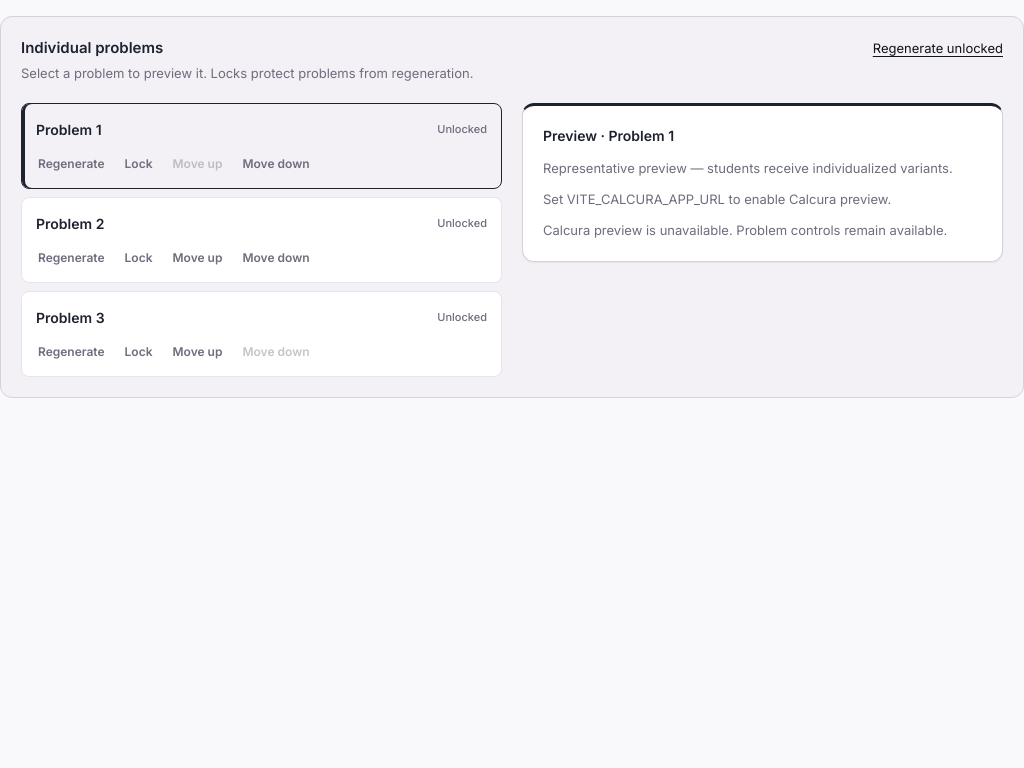
assignment problem slot editor › regenerates, locks/unlocks, reorders and confirms bulk regeneration
Click the 1st button "Regenerate" at (71, 164), box [30,148,113,180]
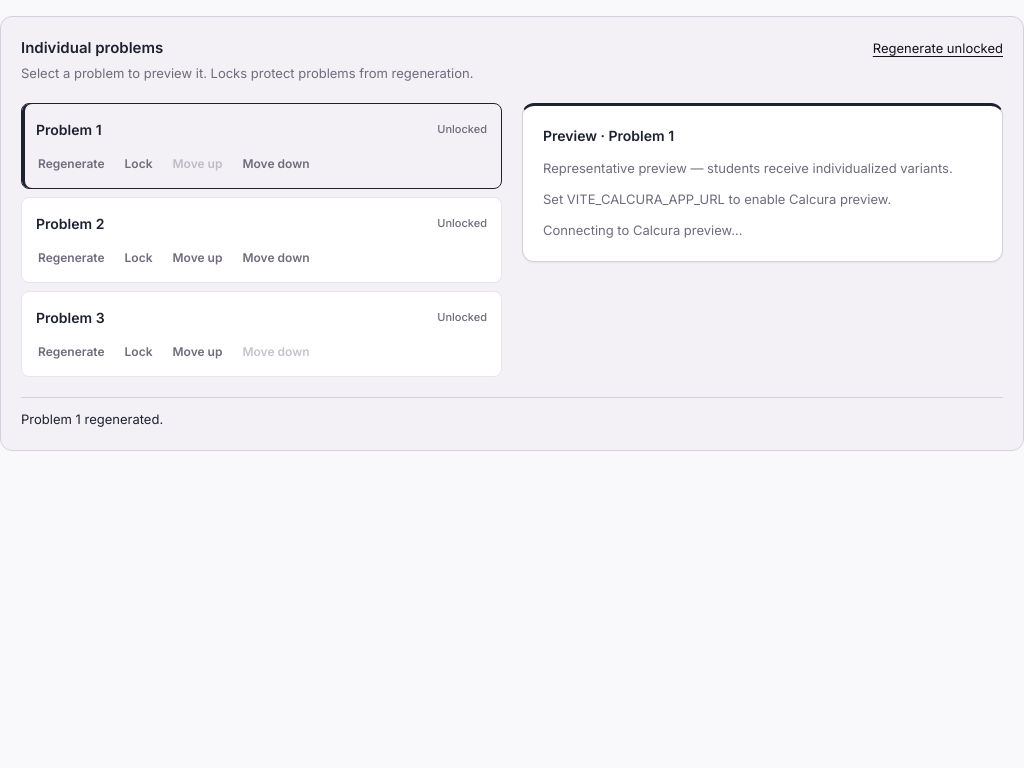
Now the text "Problem 1 regenerated." is shown, box [21,397,1003,430]
Click the 1st button "Lock" at (139, 164), box [117,148,160,180]
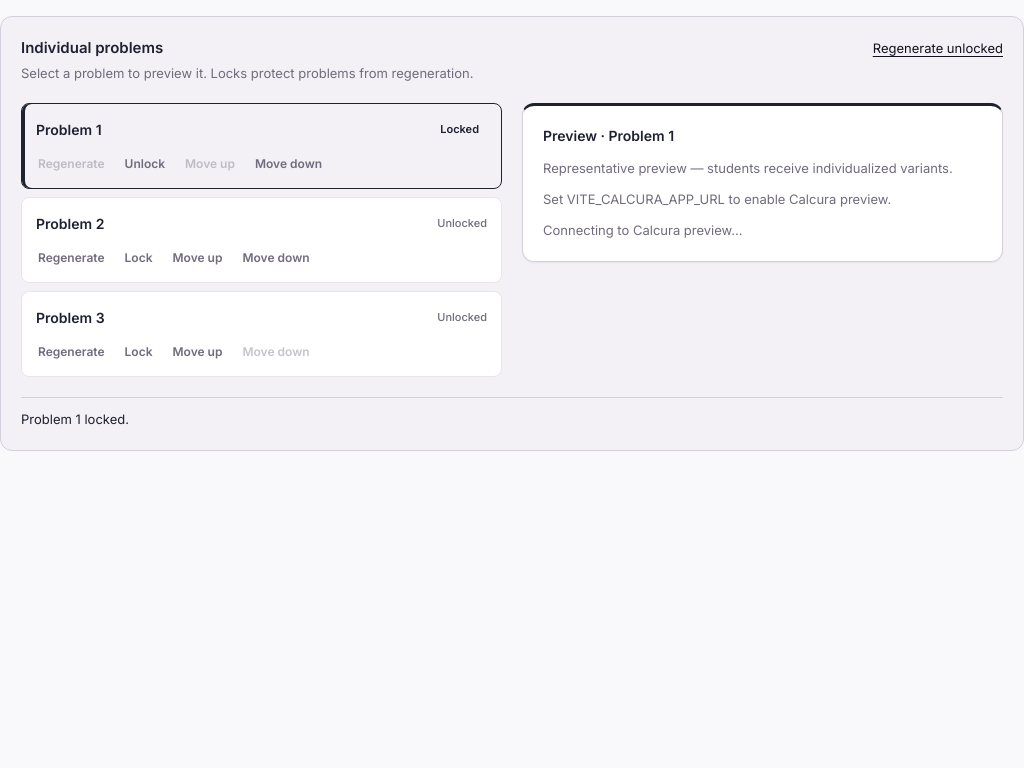
Now the text "Problem 1 locked." is shown, box [21,397,1003,430]
Now the 1st button "Regenerate" is disabled, box [30,148,113,180]
Click the button "Unlock" at (145, 164), box [117,148,173,180]
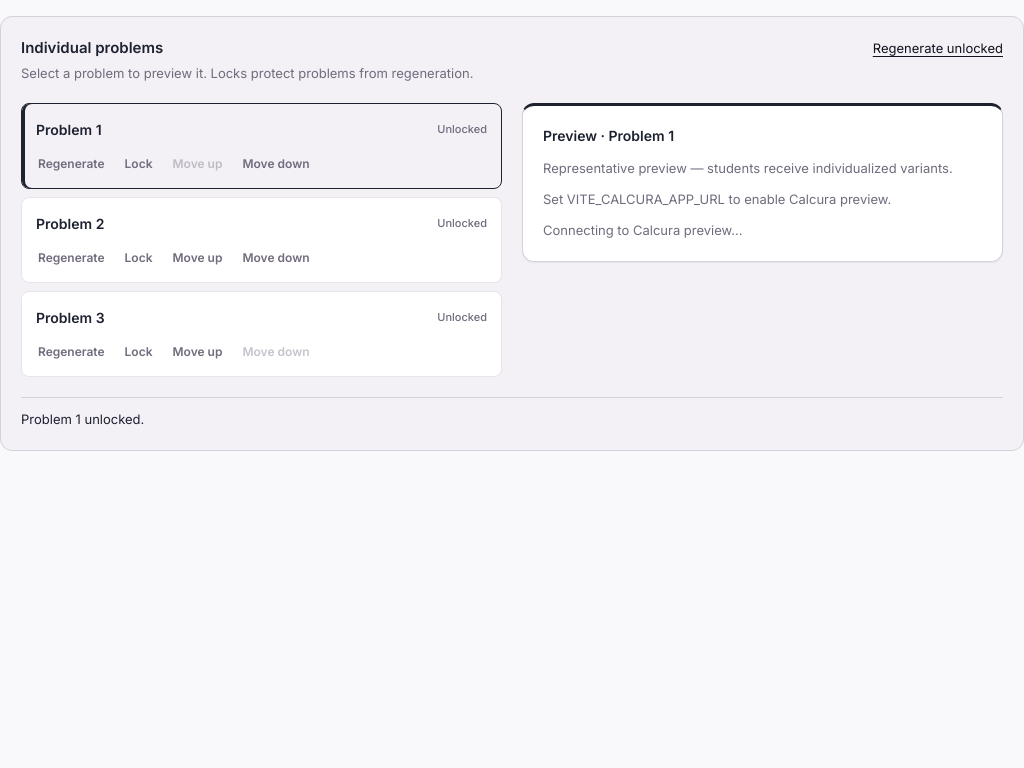
Now the text "Problem 1 unlocked." is shown, box [21,397,1003,430]
Click the 1st button "Move down" at (276, 164), box [234,148,318,180]
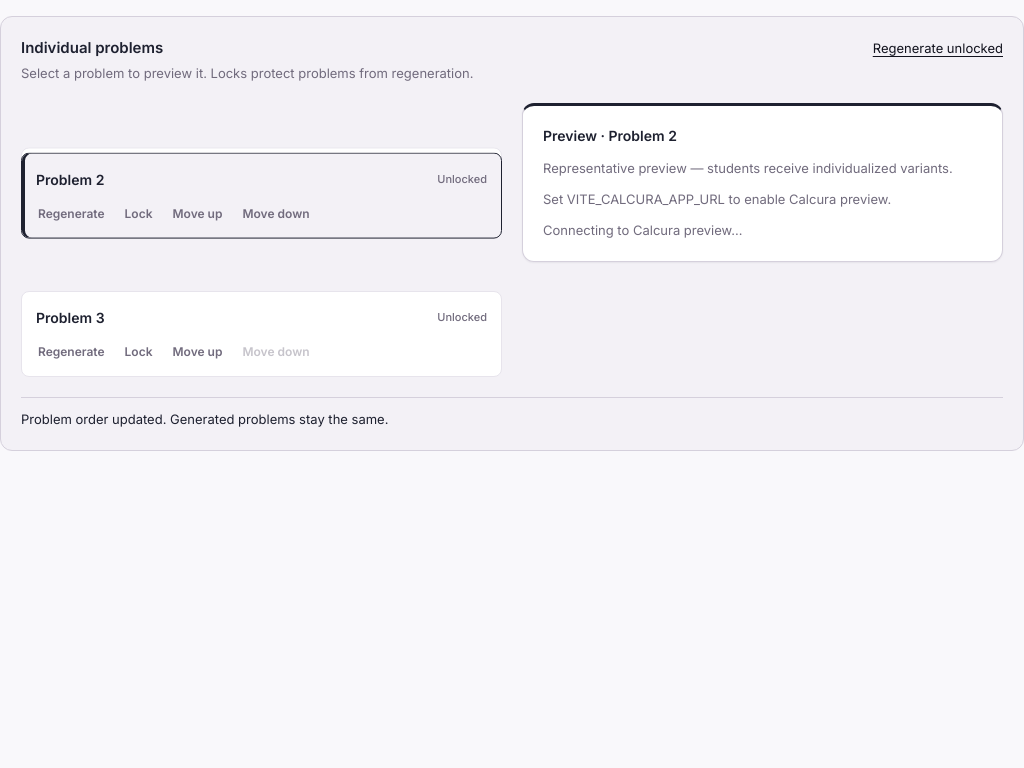
Now the text "Problem order updated. Generated problems stay the same." is shown, box [21,397,1003,430]
Click the button "Regenerate unlocked" at (938, 49), box [873,39,1003,58]
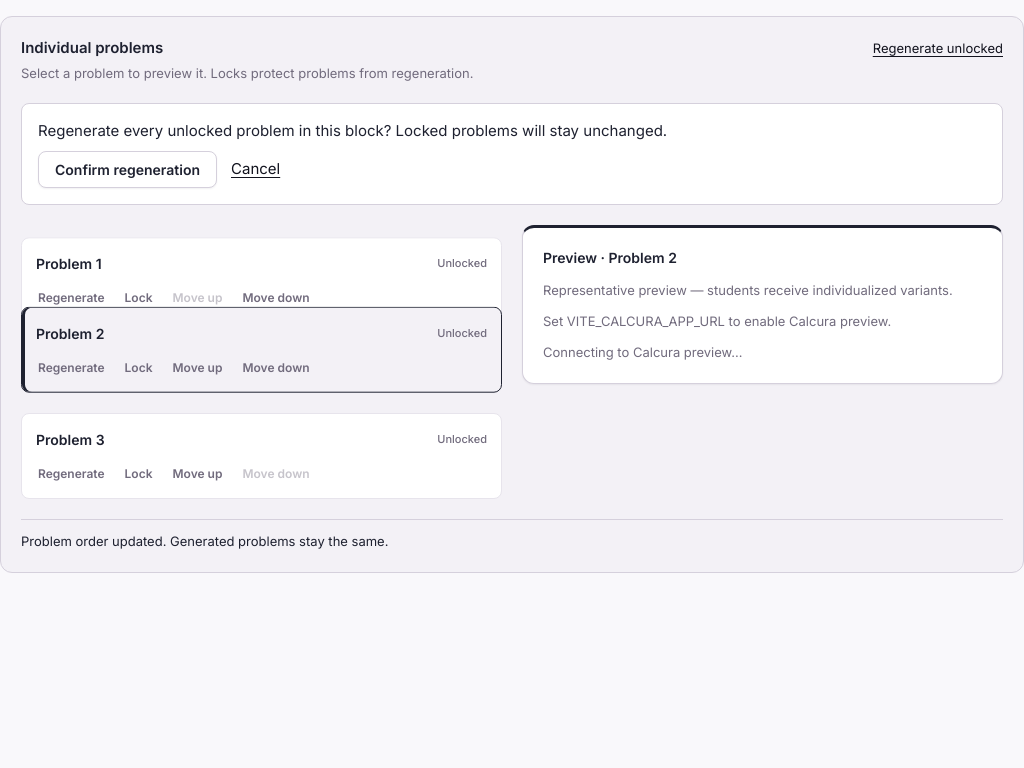
Now the text "Regenerate every unlocked problem" is shown, box [38,121,667,140]
Click the button "Confirm regeneration" at (128, 169), box [38,151,217,188]
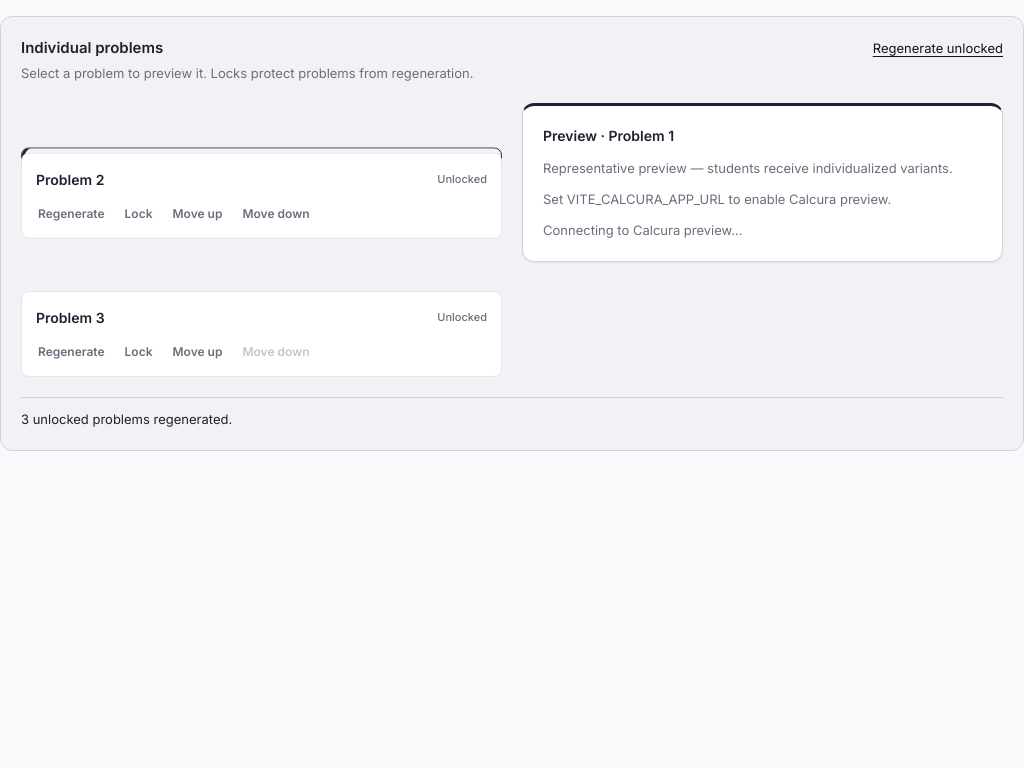
Now the text "3 unlocked problems regenerated." is shown, box [21,397,1003,430]
